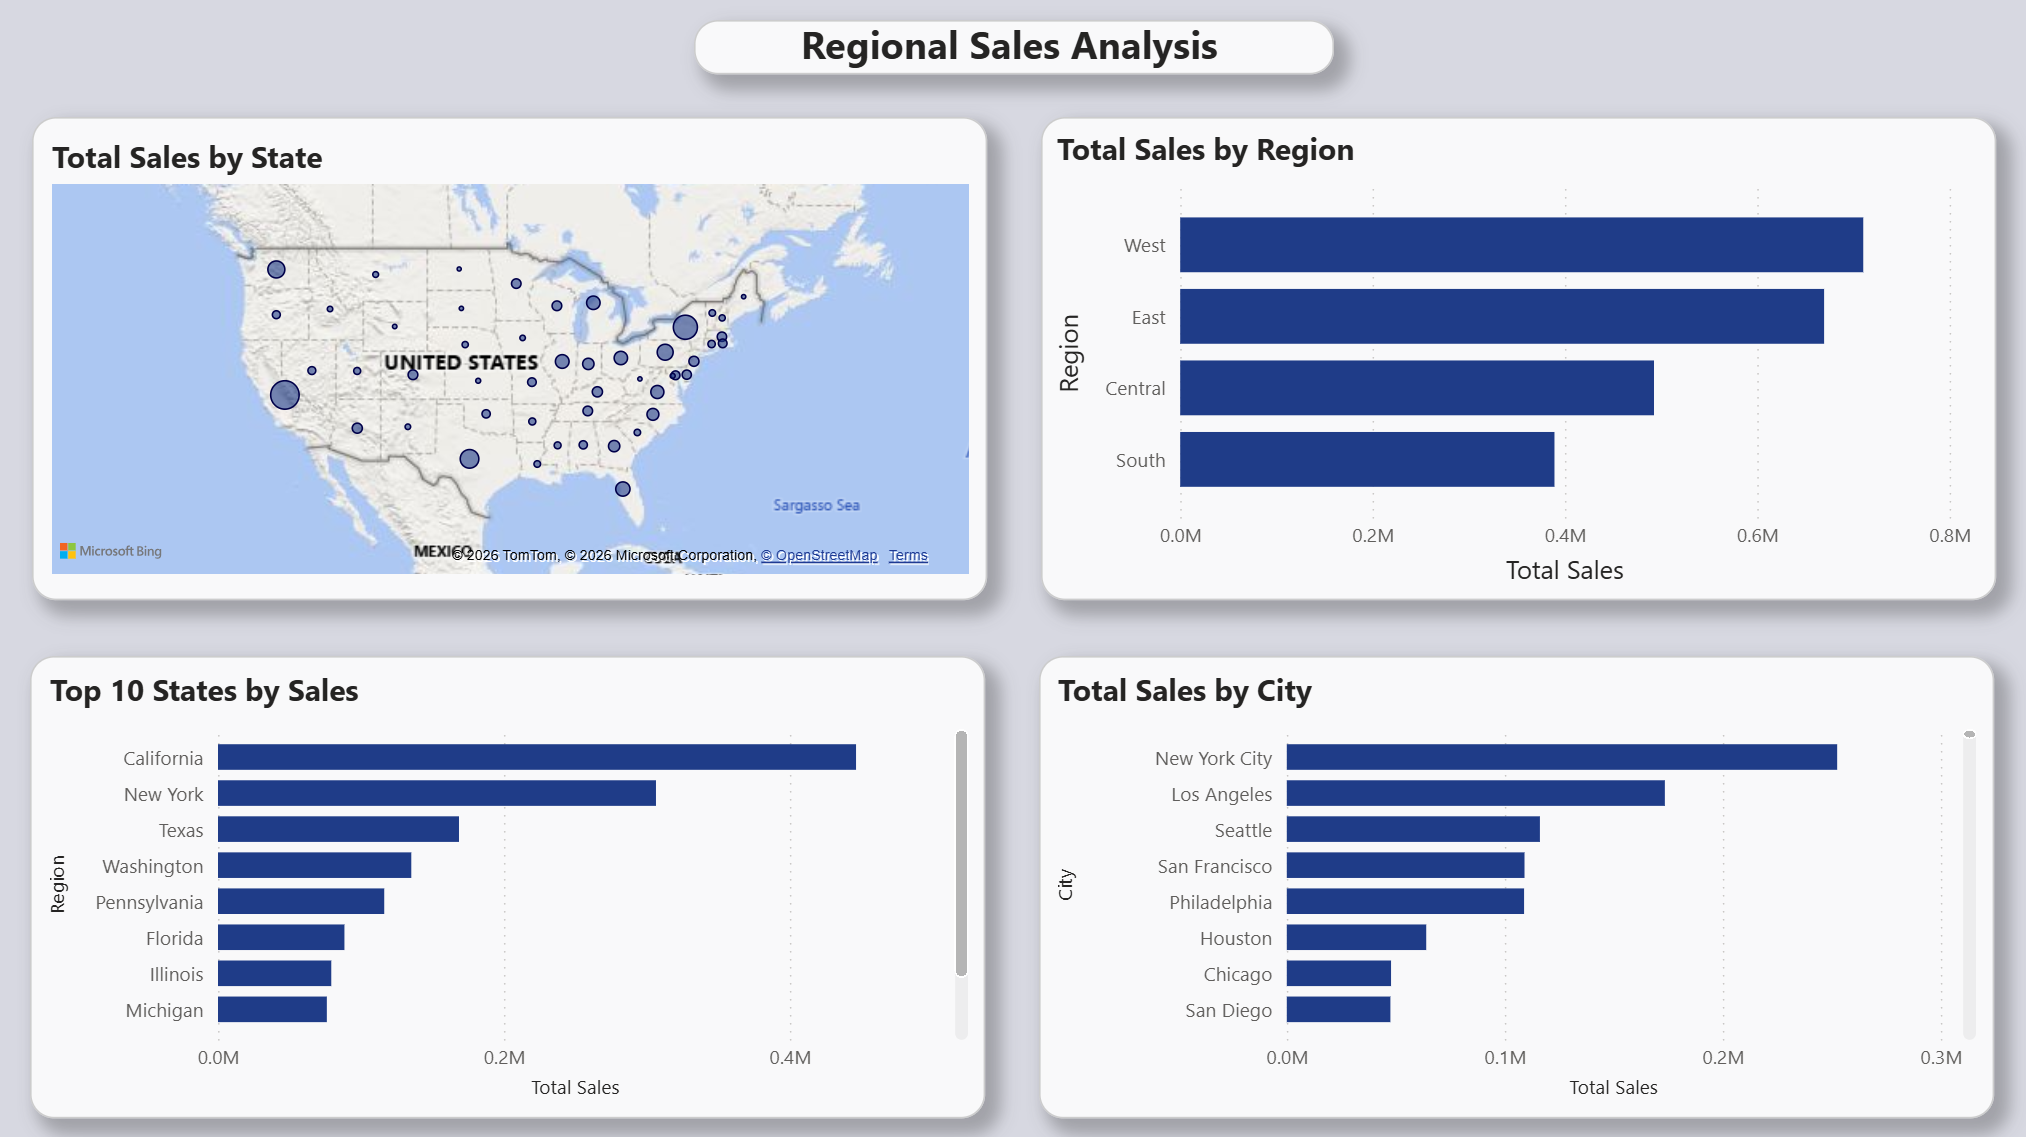

The page's visual inventory and layout, read from the dashboard file:
{"tool":"powerbi","page":{"name":"Regional Analysis","canvas":[1280,720],"ordinal":2},"visuals":[{"type":"shape","box":[0,0,1279.8,720],"z":0},{"type":"shape","box":[26.2,75,596.9,301.9],"z":1000},{"type":"shape","box":[656.9,75,596.9,301.9],"z":2000},{"type":"shape","box":[25,411.9,596.9,289.4],"z":3000},{"type":"shape","box":[655.6,411.9,596.9,289.4],"z":4000},{"type":"shape","box":[440,14.4,400,33.8],"z":5000},{"type":"map","title":"Total Sales by State","fields":{"Category":["public dim_locations.state"],"Size":["public dim_customers.Total Sales"]},"box":[33.8,86.9,582.5,278.8],"z":6000},{"type":"clusteredBarChart","title":"Total Sales by Region","fields":{"Category":["public dim_locations.region"],"Y":["public dim_customers.Total Sales"]},"box":[661.9,81.9,581.9,290.6],"z":7000},{"type":"clusteredBarChart","title":"Top 10 States by Sales","fields":{"Y":["public dim_customers.Total Sales"],"Category":["public dim_locations.state"]},"box":[32.5,420,583.8,273.8],"z":8000},{"type":"clusteredBarChart","title":"Total Sales by City","fields":{"Y":["public dim_customers.Total Sales"],"Category":["public dim_locations.city"]},"box":[662.5,420,583.8,273.8],"z":9000},{"type":"textbox","box":[501.9,7.5,384.4,47.5],"z":10000}]}

Visuals, with their boxes in screenshot pixels (x1, y1, x2, y2), scaled from the page's 1280x720 canvas onto the 2026x1137 screenshot:
shape: x1=0, y1=0, x2=2025, y2=1136
shape: x1=41, y1=118, x2=986, y2=595
shape: x1=1040, y1=118, x2=1985, y2=595
shape: x1=40, y1=650, x2=984, y2=1107
shape: x1=1038, y1=650, x2=1982, y2=1107
shape: x1=696, y1=23, x2=1330, y2=76
"Total Sales by State" map: x1=53, y1=137, x2=975, y2=578
"Total Sales by Region" clusteredBarChart: x1=1048, y1=129, x2=1969, y2=588
"Top 10 States by Sales" clusteredBarChart: x1=51, y1=663, x2=975, y2=1096
"Total Sales by City" clusteredBarChart: x1=1049, y1=663, x2=1973, y2=1096
textbox: x1=794, y1=12, x2=1403, y2=87
